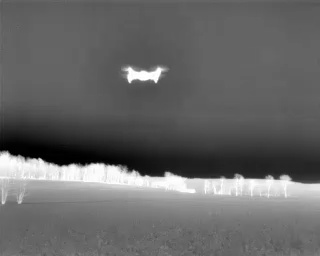DRONE: (117, 60, 171, 89)
